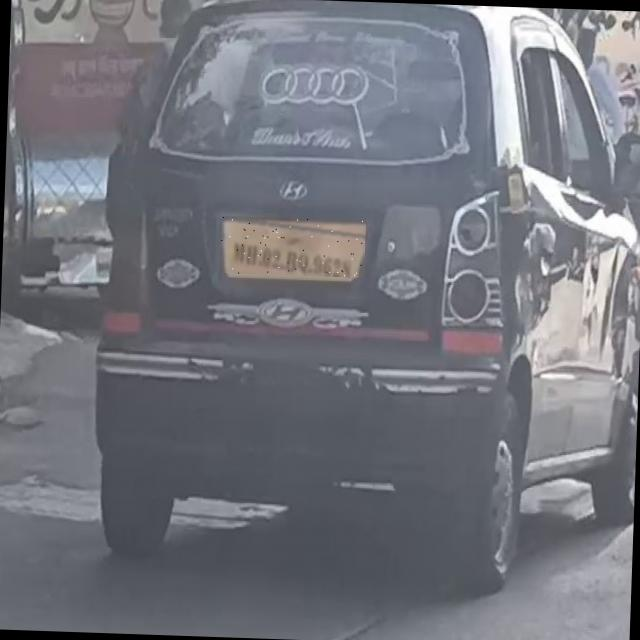Plate: (221, 217, 367, 279)
